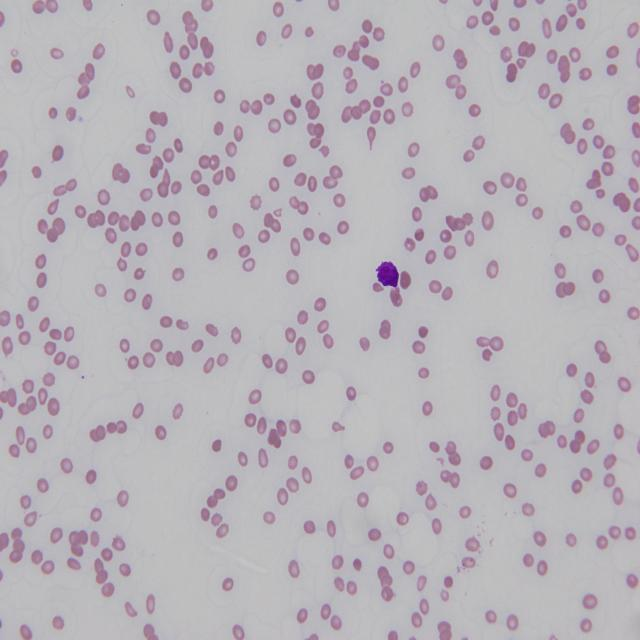cell: (376, 261, 399, 287)
